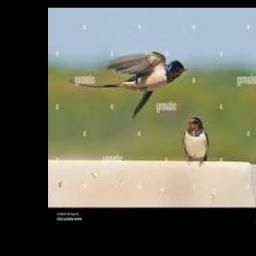Swallow: (69, 52, 186, 119), (183, 117, 209, 165)
